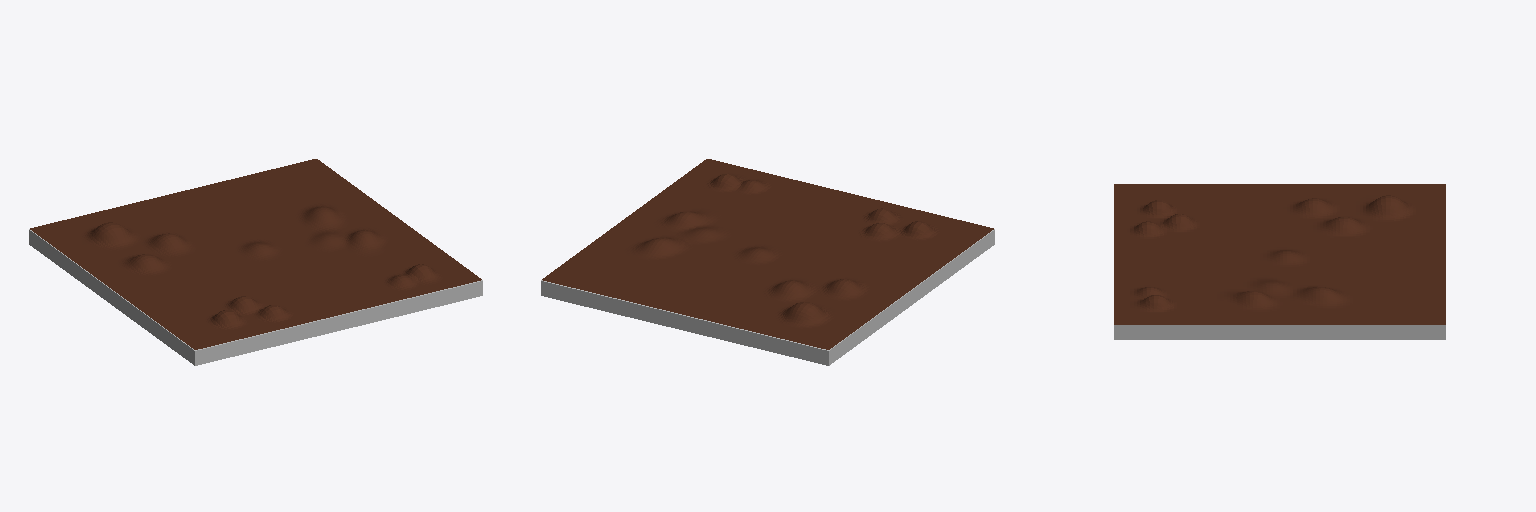
The model's file is 2x2TileGround.obj.
The picture shows the model from 3 angles: view 1: azimuth 30°, elevation 25°; view 2: azimuth 150°, elevation 25°; view 3: azimuth 270°, elevation 25°; orthographic projection.
Parts seen in each view (by area): view 1: Grid, Cube; view 2: Grid, Cube; view 3: Grid, Cube.
Boxes of the visible parts, box(x1,y1,x2,y2) form: Grid: box(30, 159, 481, 349); Cube: box(29, 229, 482, 365); Grid: box(542, 159, 993, 349); Cube: box(541, 229, 994, 365); Grid: box(1114, 184, 1445, 324); Cube: box(1114, 325, 1445, 339).
Bounding box in the file's own units: 2 × 0.1884 × 2.